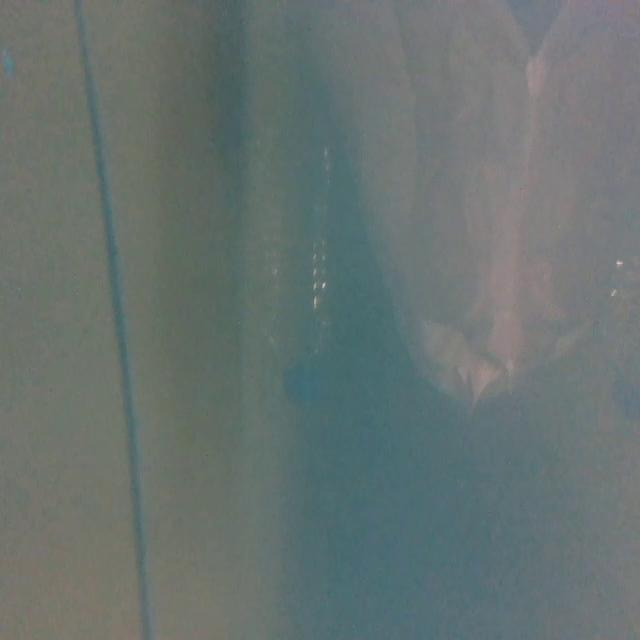plastic bags: (338, 0, 640, 440)
plastic bottle: (244, 106, 358, 423)
